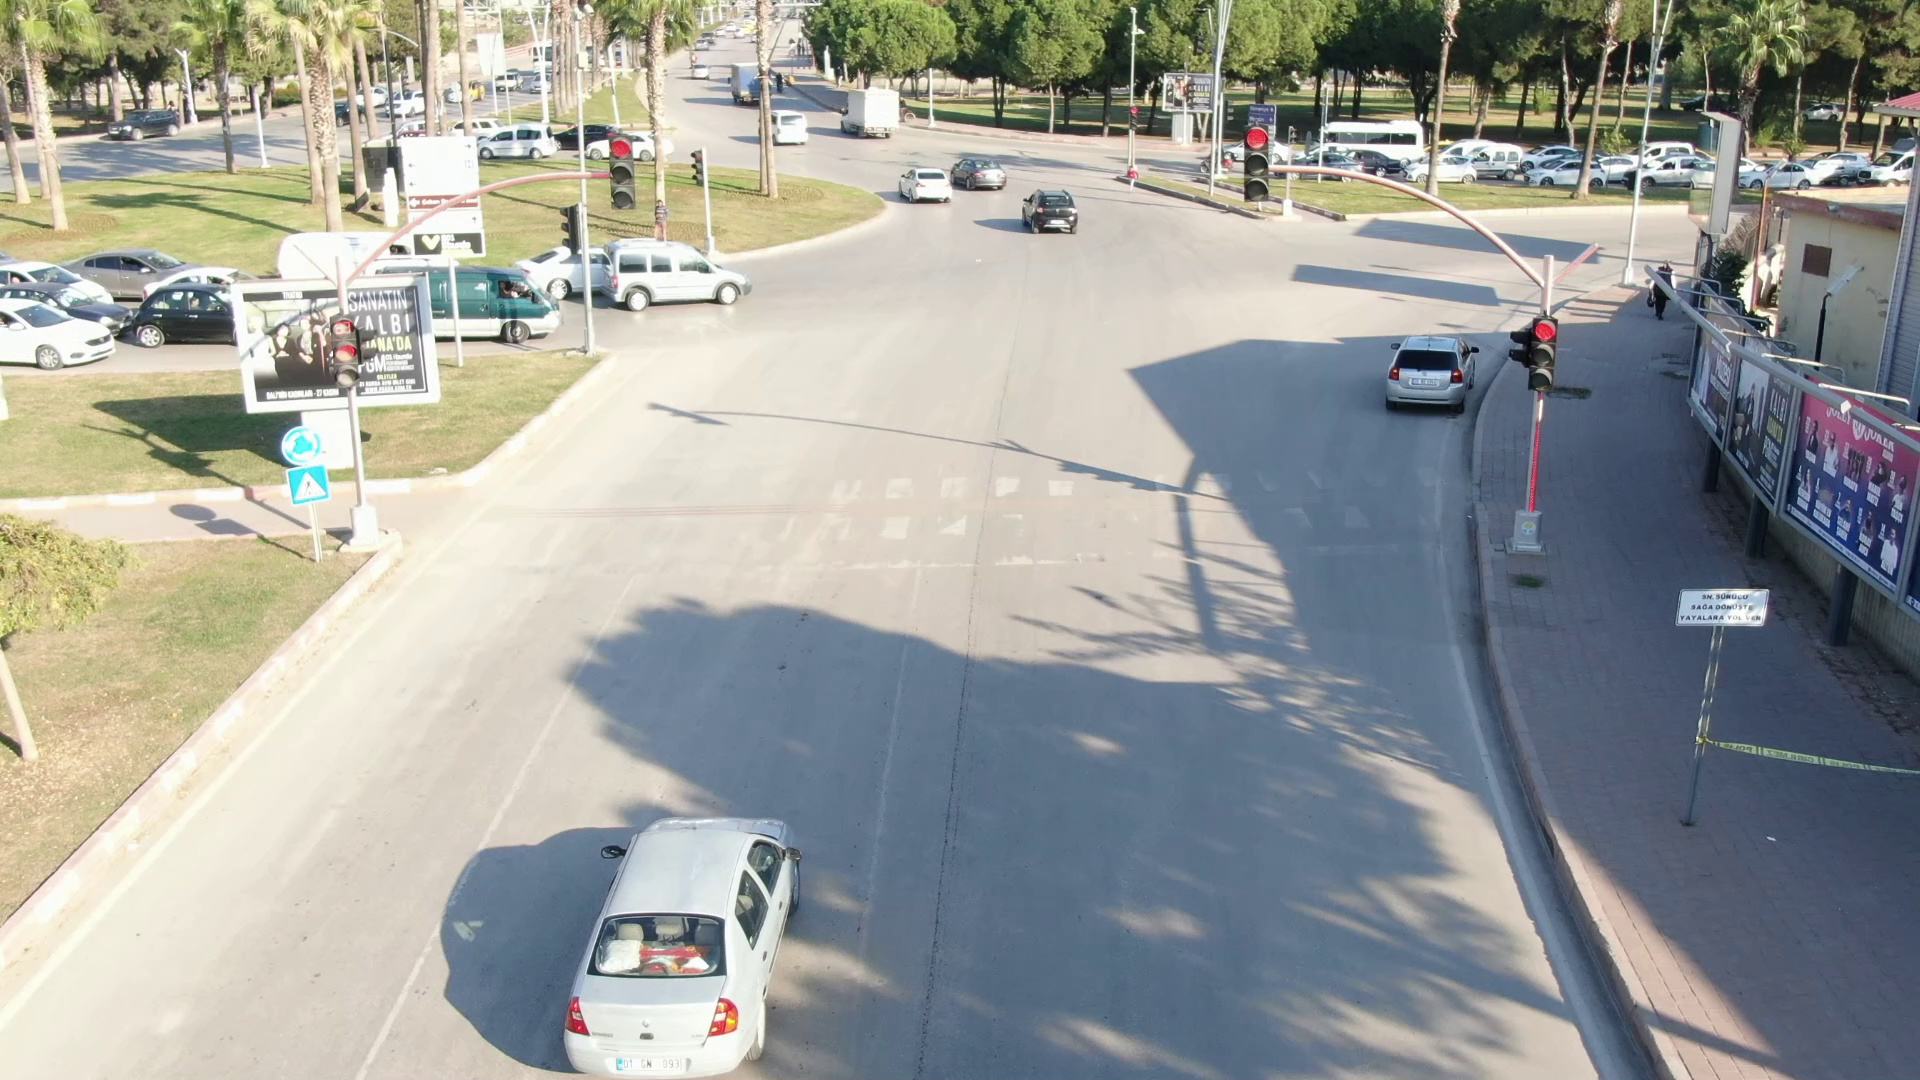car: (501, 752, 851, 1080), (1356, 305, 1491, 436), (597, 231, 764, 332), (1007, 181, 1104, 251), (833, 83, 909, 145), (894, 158, 956, 215), (944, 154, 1011, 199)
